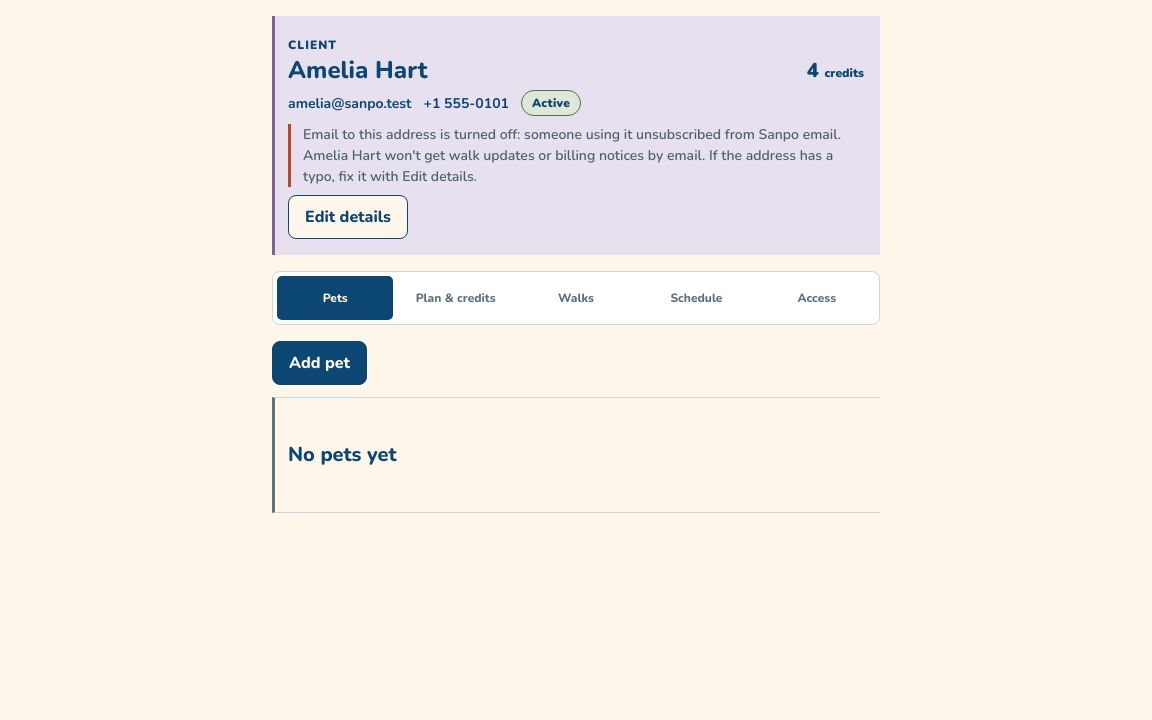
it: ClientDetail — a client's address has opted out of email › never shows one address's answer against another
Expected: the heading "Amelia Hart" is shown, x1=288 y1=57 x2=427 y2=85
Expected: the 1st message shows "Email to this address is turned off", x1=303 y1=125 x2=841 y2=186
Click the button "Edit details": (348, 217) x1=288 y1=195 x2=408 y2=239
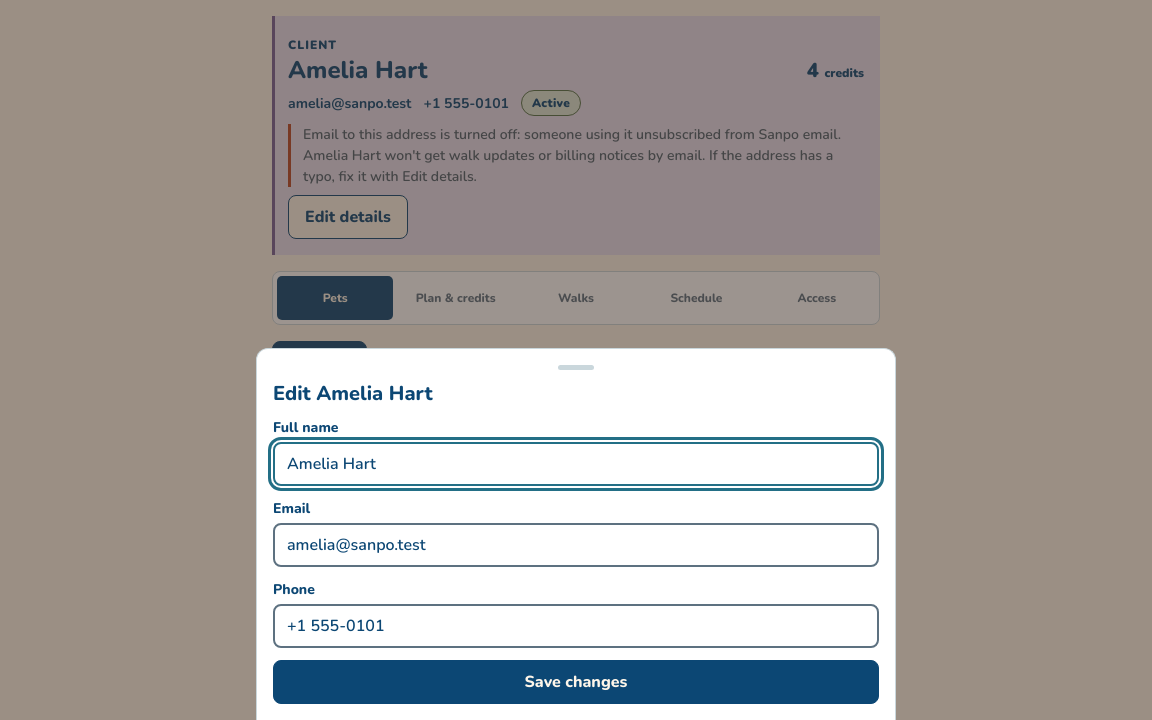
Clear the field labelled "Email": (576, 545) x1=273 y1=523 x2=879 y2=567
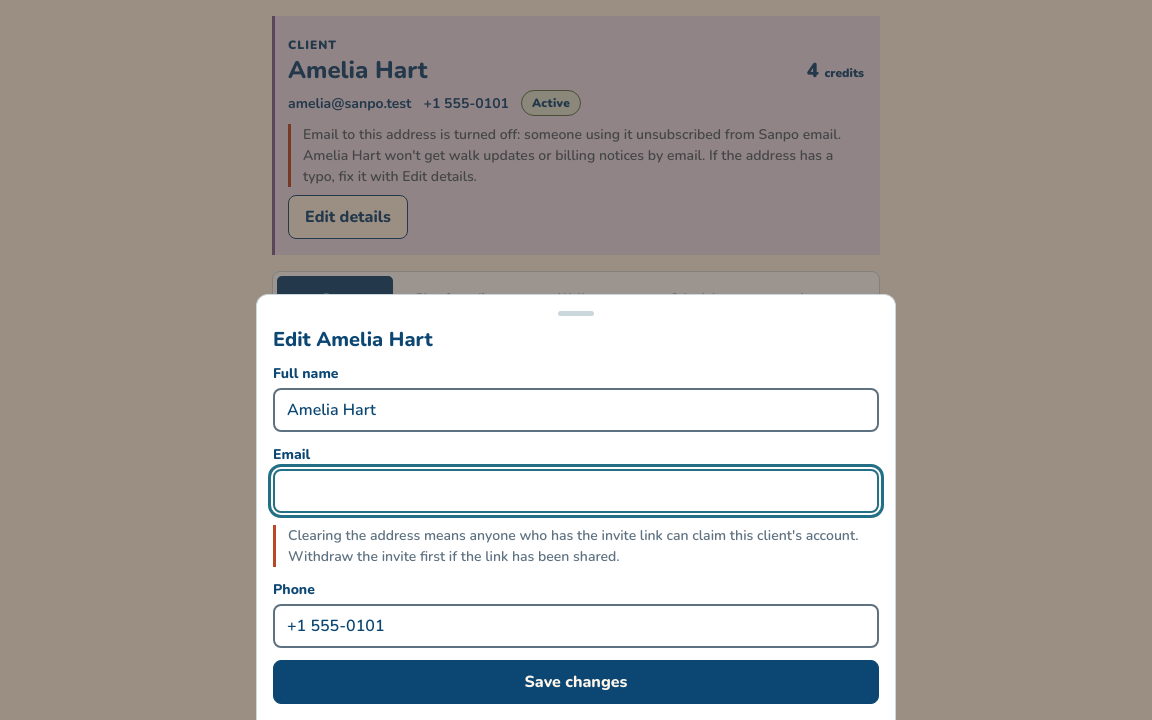
In the field labelled "Email": (576, 491) x1=273 y1=469 x2=879 y2=513, type "amelia.hart@sanpo.test"
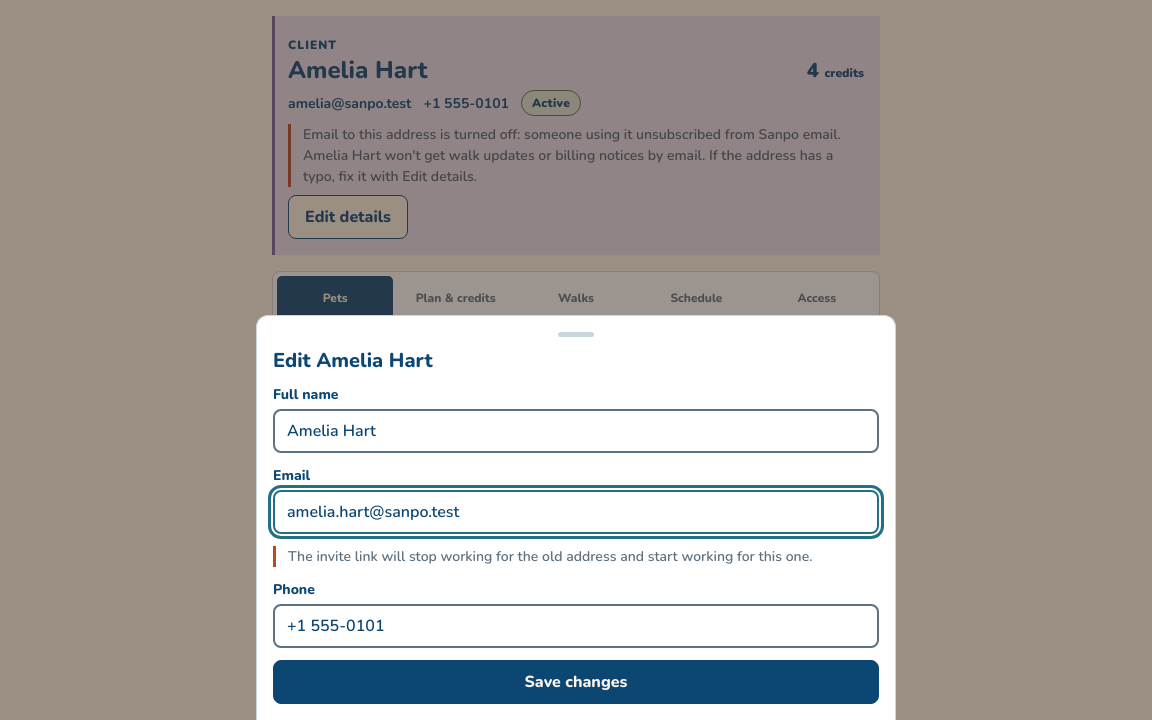
Click the button "Save changes": (576, 682) x1=273 y1=660 x2=879 y2=704
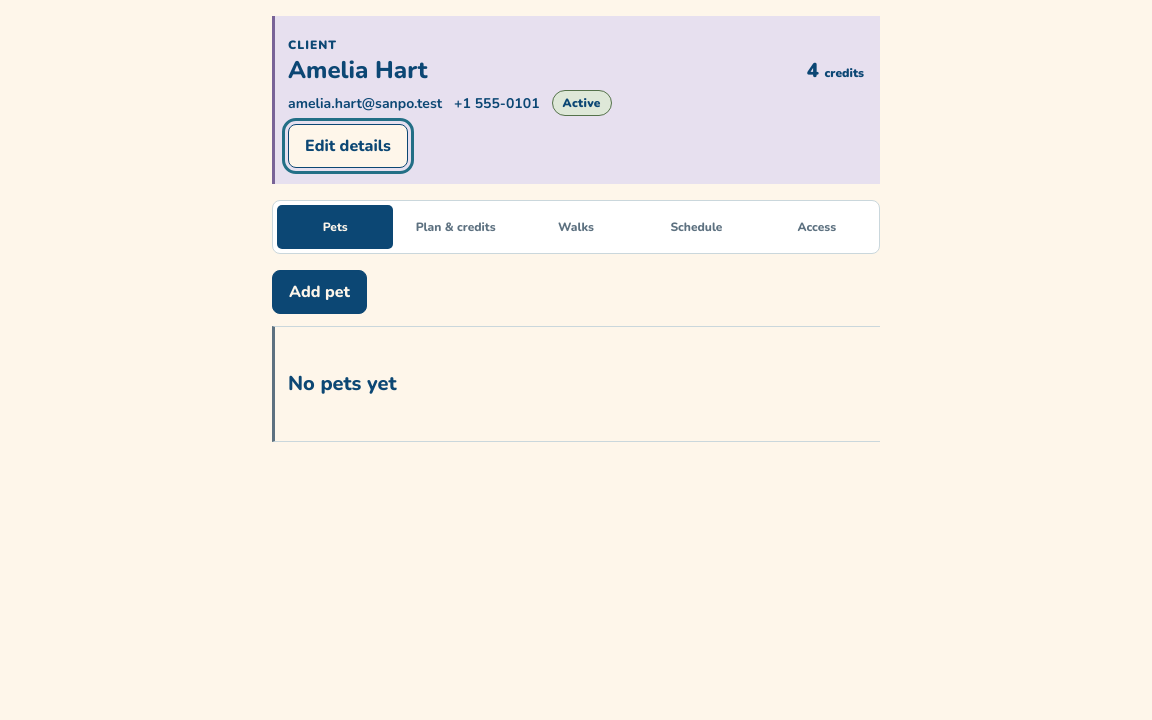
Now the dialog is gone
